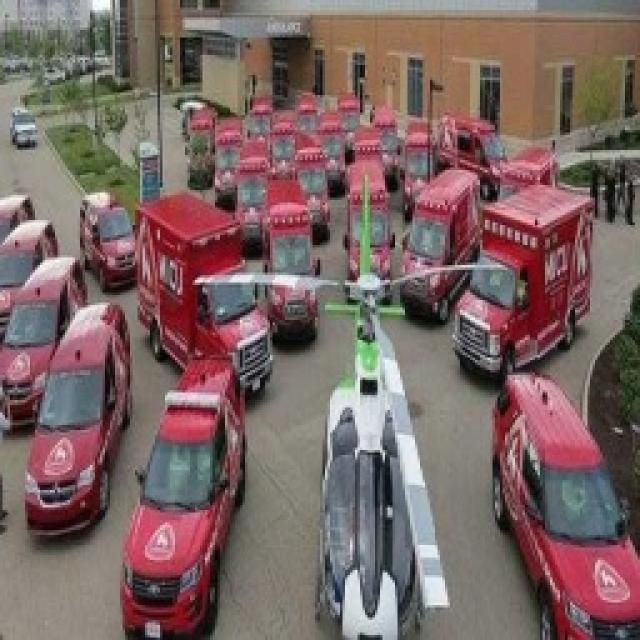emergency-vehicle: (482, 365, 640, 640), (125, 349, 232, 640), (131, 200, 273, 386), (455, 189, 600, 361), (28, 308, 127, 536), (262, 200, 338, 338), (2, 261, 49, 420), (349, 167, 408, 291), (401, 172, 450, 311), (81, 186, 137, 276), (1, 212, 37, 286)
